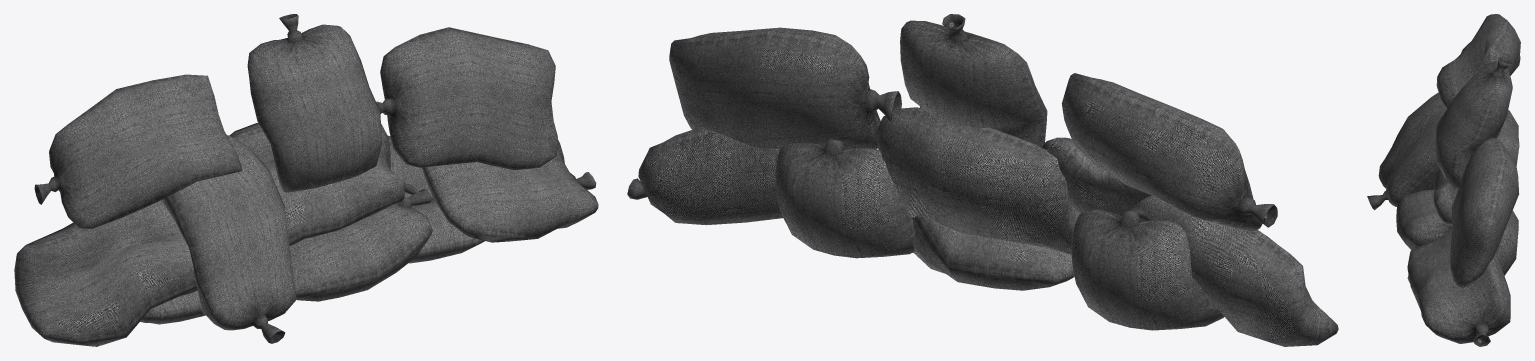
File: support_big.fbx
3 renders of one model, left to right at view 1: azimuth 30°, elevation 25°; view 2: azimuth 150°, elevation 25°; view 3: azimuth 270°, elevation 25°, orthographic. The views are drawn at different scales.
Parts seen in each view (by area): view 1: main_mesh; view 2: main_mesh; view 3: main_mesh.
Part boxes in pixels (box(x1,y1,x2,y2)): main_mesh: box(14, 14, 598, 346); main_mesh: box(627, 14, 1338, 346); main_mesh: box(1367, 14, 1520, 346).
Bounding box in the file's own units: 2.26 × 0.9298 × 0.6779.
1 material, 1 textured.
